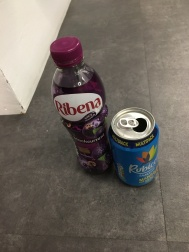bottle_purple: (41, 32, 117, 189)
can_blue: (105, 95, 177, 200)
